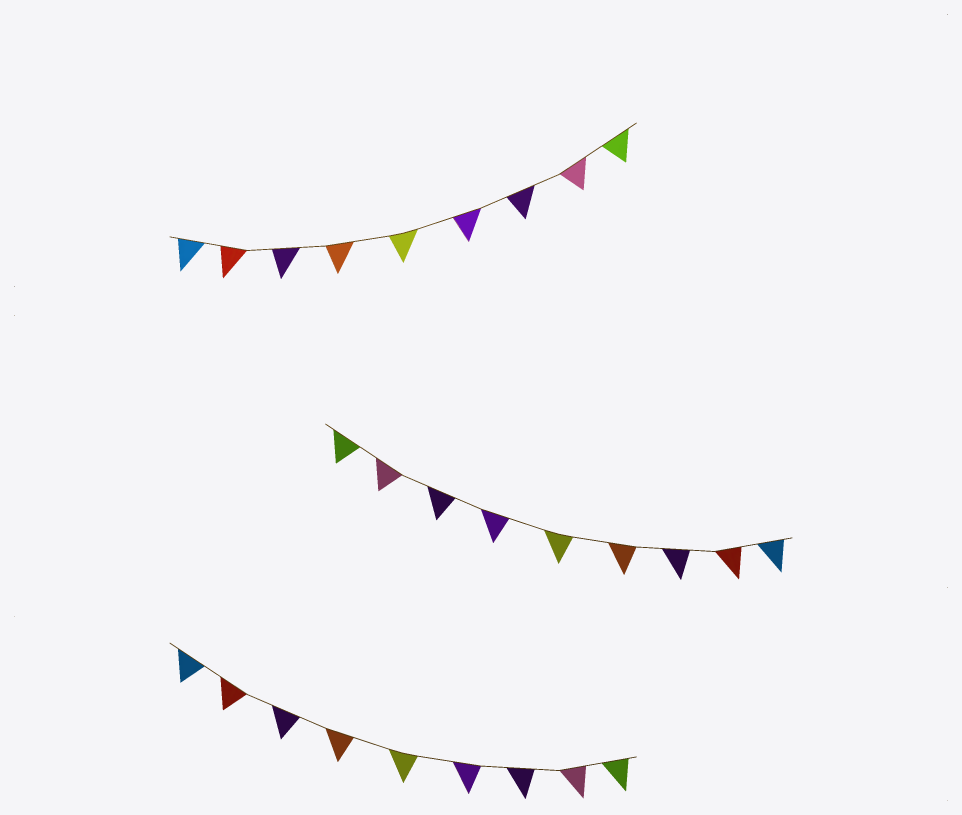
File: bunting.glb
The picture shows the model from 3 angles, top to bottom: view 1: azimuth 30°, elevation 25°; view 2: azimuth 150°, elevation 25°; view 3: azimuth 330°, elevation 25°; orthographic projection.
Parts seen in each view (by area): view 1: Triangle10; view 2: Triangle10; view 3: Triangle10.
Boxes of the visible parts, box(x1,y1,x2,y2) form: Triangle10: box(14, 14, 947, 286); Triangle10: box(14, 315, 947, 587); Triangle10: box(14, 616, 947, 800).
Bounding box in the file's own units: 2.28 × 0.2702 × 0.00196.
1 material, 1 textured.
